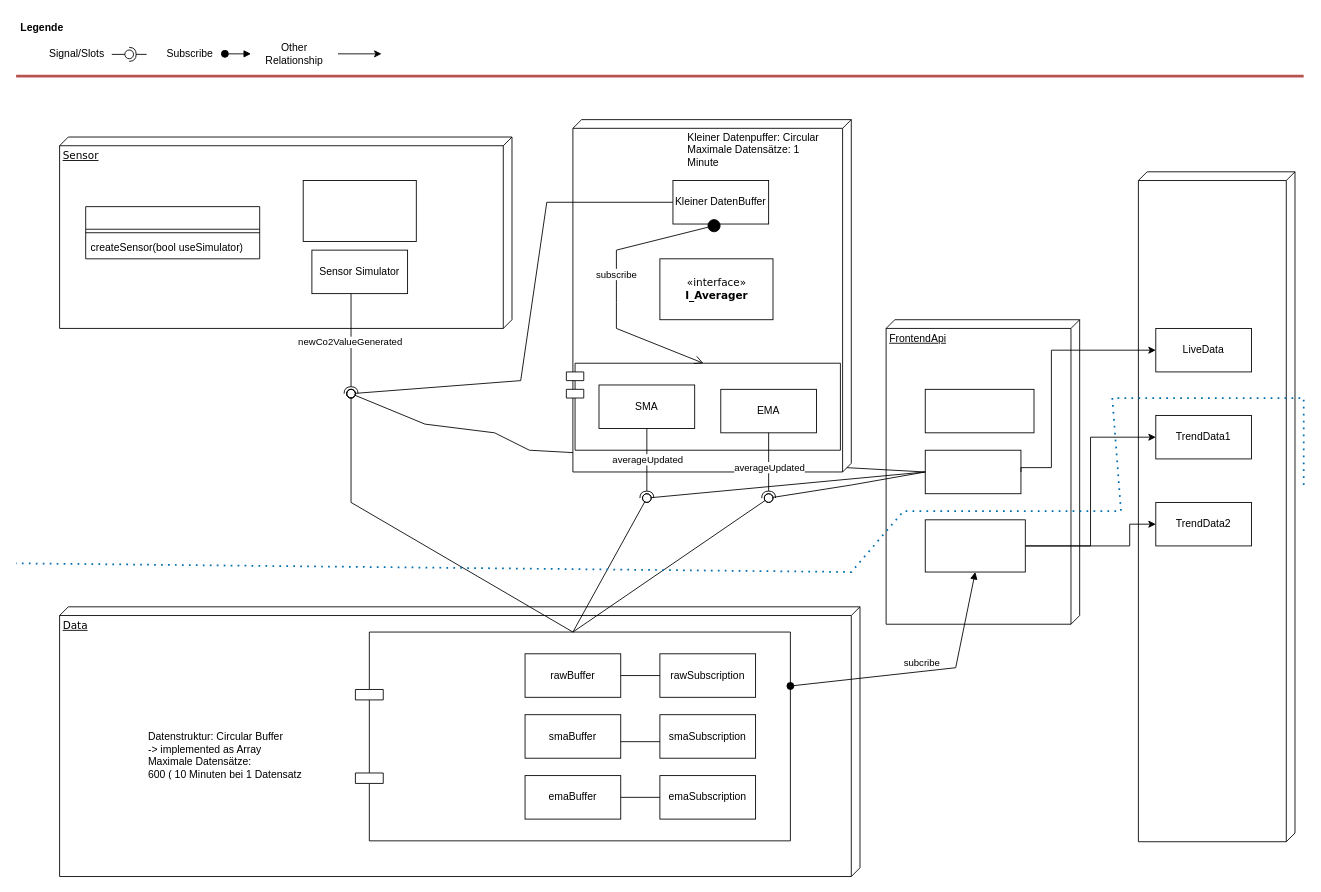
The diagram is 1321 pixels wide and 892 high, and some of its shapes have lost their labels. Each missing label, with the box of its shape:
Average Calculator: (572, 119, 851, 472)
Averager: (566, 362, 840, 450)
DataBufferManager: (355, 631, 790, 841)
LiveDataAPI: (924, 449, 1021, 494)
static Sensor Factory: (85, 206, 260, 259)
TrendDataAPI: (924, 519, 1025, 572)
User Interface: (1138, 171, 1295, 842)
«interface» FrontendApiModule: (924, 388, 1034, 433)
«interface» I_Sensor: (302, 180, 416, 241)
